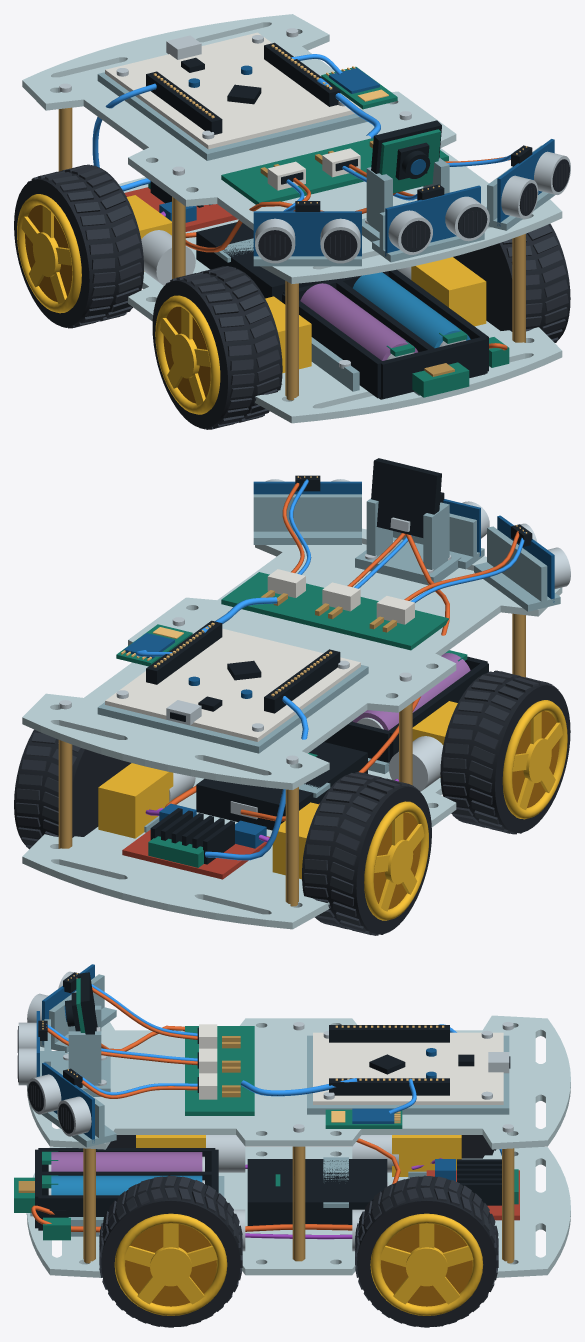
The model's file is mooncar-proposed.glb.
3 renders of one model, top to bottom at view 1: azimuth 30°, elevation 25°; view 2: azimuth 150°, elevation 25°; view 3: azimuth 270°, elevation 25°, orthographic. The views are drawn at different scales.
Visible parts, largest first — view 1: Upper acrylic deck, Front wheel (×2), NUCLEO-F411RE, Rear wheel, Front-loading drive battery tray, Lower acrylic deck, Geared DC motor (×3), MoonCar - revised layout, right HC-SR04, front HC-SR04, Sensor distribution board, left HC-SR04 (+6 smaller); view 2: Upper acrylic deck, Rear wheel (×2), NUCLEO-F411RE, Front wheel, Lower acrylic deck, Sensor distribution board, Geared DC motor (×3), MoonCar - revised layout, left HC-SR04, Motor driver (illustrative), right HC-SR04, Separate 5V USB power bank (+5 smaller); view 3: Upper acrylic deck, Rear wheel (×2), Front wheel, NUCLEO-F411RE, Lower acrylic deck, Front-loading drive battery tray, Separate 5V USB power bank, Sensor distribution board, MoonCar - revised layout, Geared DC motor (×2), left HC-SR04, Motor driver (illustrative) (+6 smaller).
Part boxes in pixels (x1,y1,x2,y2): Upper acrylic deck: (22,14,562,283); Front wheel (×2): (152,223,570,429); NUCLEO-F411RE: (97,32,367,160); Rear wheel: (14,164,143,328); Front-loading drive battery tray: (282,269,488,399); Lower acrylic deck: (118,177,562,423); Geared DC motor (×3): (126,195,486,373); MoonCar - revised layout: (58,80,525,400); right HC-SR04: (253,201,361,266); front HC-SR04: (372,184,489,262); Sensor distribution board: (221,138,448,204); left HC-SR04: (486,139,570,230); Upper acrylic deck: (22,477,562,789); Rear wheel (×2): (14,729,431,935); NUCLEO-F411RE: (97,620,368,753); Front wheel: (440,670,570,834); Lower acrylic deck: (22,770,456,929); Sensor distribution board: (221,569,448,650); Geared DC motor (×3): (98,701,457,879); MoonCar - revised layout: (58,534,525,906); left HC-SR04: (253,475,361,544); Motor driver (illustrative): (122,803,269,879); right HC-SR04: (474,515,570,611); Separate 5V USB power bank: (196,742,367,830); Upper acrylic deck: (26,975,570,1149); Rear wheel (×2): (355,1135,498,1327); Front wheel: (99,1175,242,1327); NUCLEO-F411RE: (307,1025,510,1114); Lower acrylic deck: (26,1147,570,1277); Front-loading drive battery tray: (14,1148,218,1230); Separate 5V USB power bank: (247,1157,388,1225); Sensor distribution board: (185,1024,254,1115); MoonCar - revised layout: (83,1024,514,1263); Geared DC motor (×2): (136,1135,461,1177); left HC-SR04: (27,1062,116,1147); Motor driver (illustrative): (426,1159,519,1220).
Size of the model in its own units: 0.164 by 0.1259 by 0.2395.
